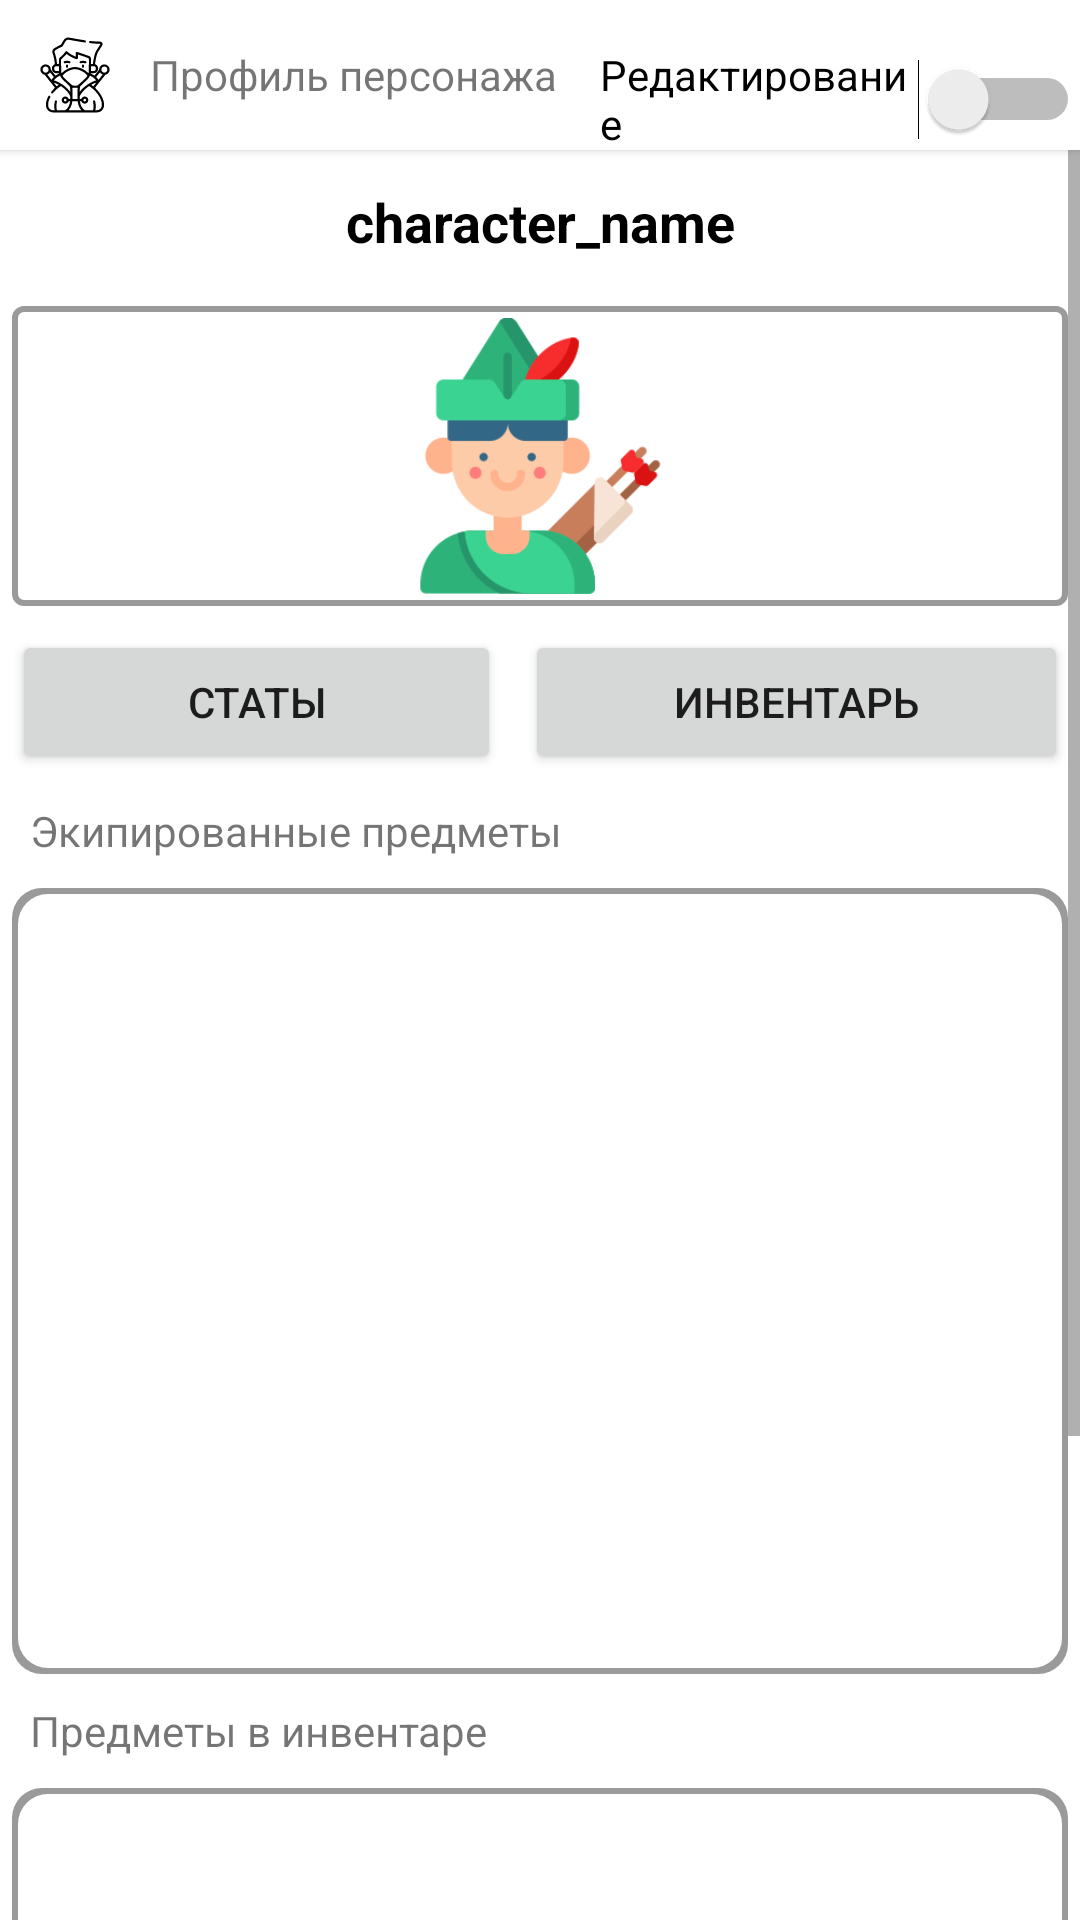

Icons on this 1080px x 1920px Android screen, each with its box as [x1, y1, x2, y2]:
Изображение персонажа: [420, 318, 660, 594]
